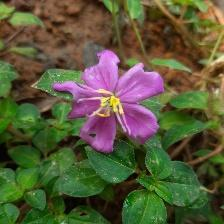malabar melastome: (53, 50, 166, 156)
